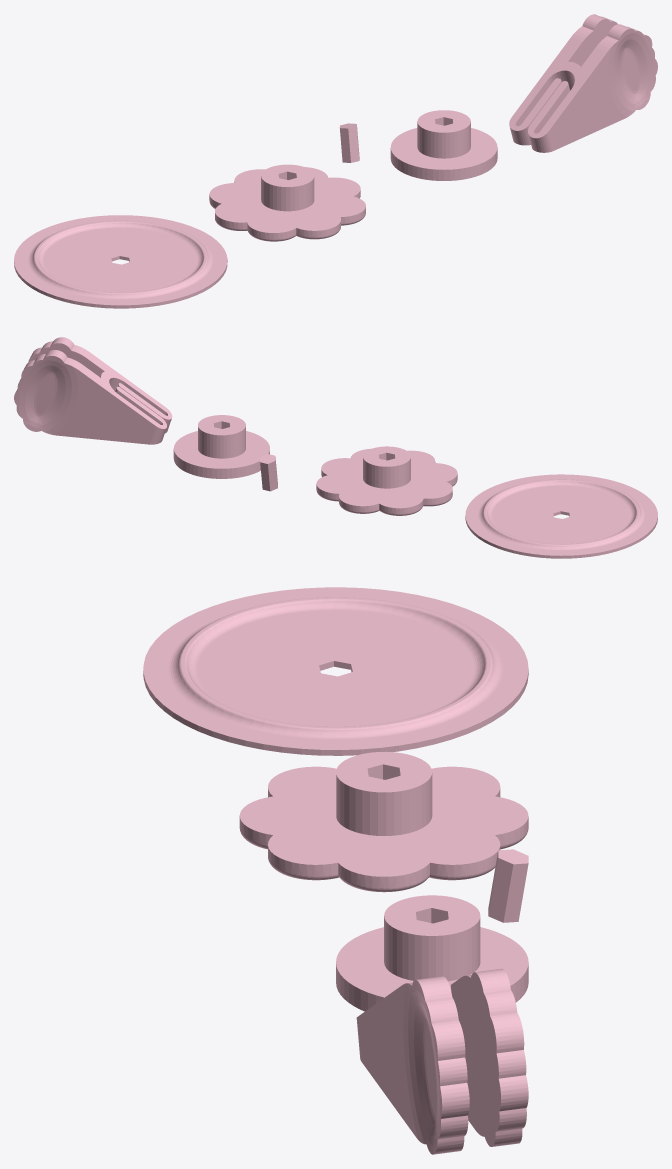
The model's file is flor-iman-clips.glb.
3 renders of one model, top to bottom at view 1: azimuth 30°, elevation 25°; view 2: azimuth 150°, elevation 25°; view 3: azimuth 270°, elevation 25°, orthographic. The views are drawn at different scales.
Visible parts, largest first — view 1: pieza; view 2: pieza; view 3: pieza.
Part boxes in pixels (<box>): pieza: <box>14,14,657,308</box>; pieza: <box>14,337,657,558</box>; pieza: <box>143,587,528,1154</box>.
Bounding box in the file's own units: 0.2138 × 0.0273 × 0.06.
